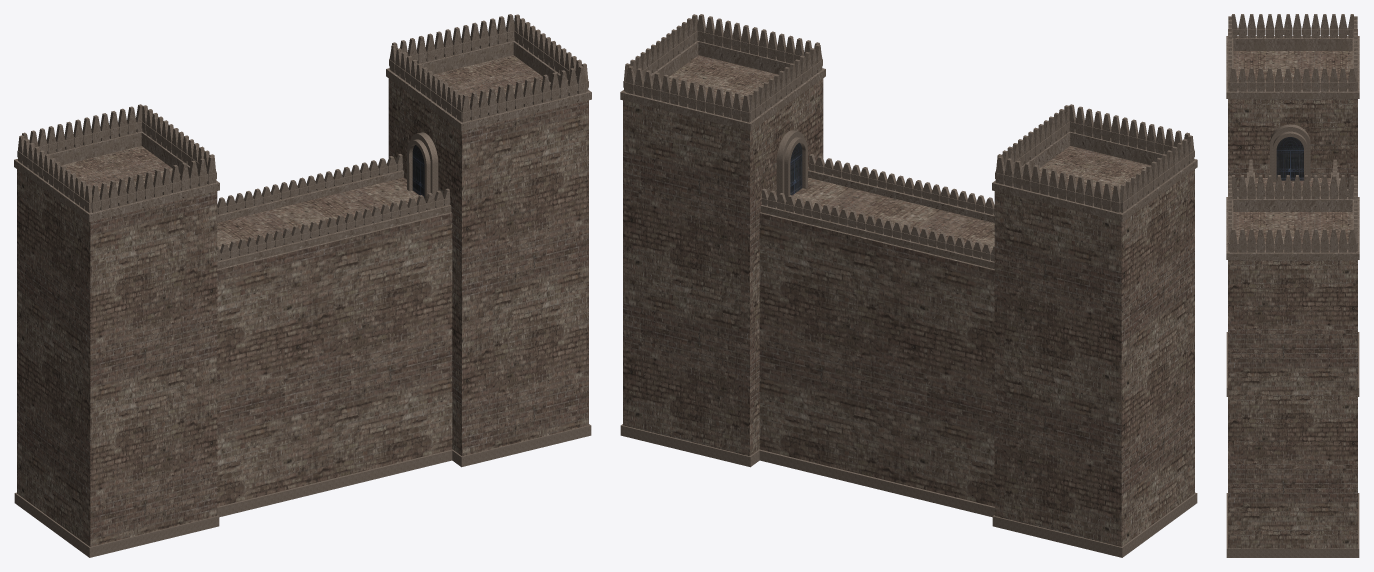
The model's file is wall.fbx.
3 views of the same model, side by side, from view 1: azimuth 30°, elevation 25°; view 2: azimuth 150°, elevation 25°; view 3: azimuth 270°, elevation 25° (orthographic). The views are drawn at different scales.
Visible parts, largest first — view 1: wall; view 2: wall; view 3: wall.
Part boxes in pixels (box(x1,y1,x2,y2)): wall: box(14, 14, 591, 557); wall: box(620, 14, 1197, 557); wall: box(1226, 14, 1359, 557).
Size of the model in its own units: 4.27 by 3 by 1.11.
Materials: 3 (3 with a texture image).
